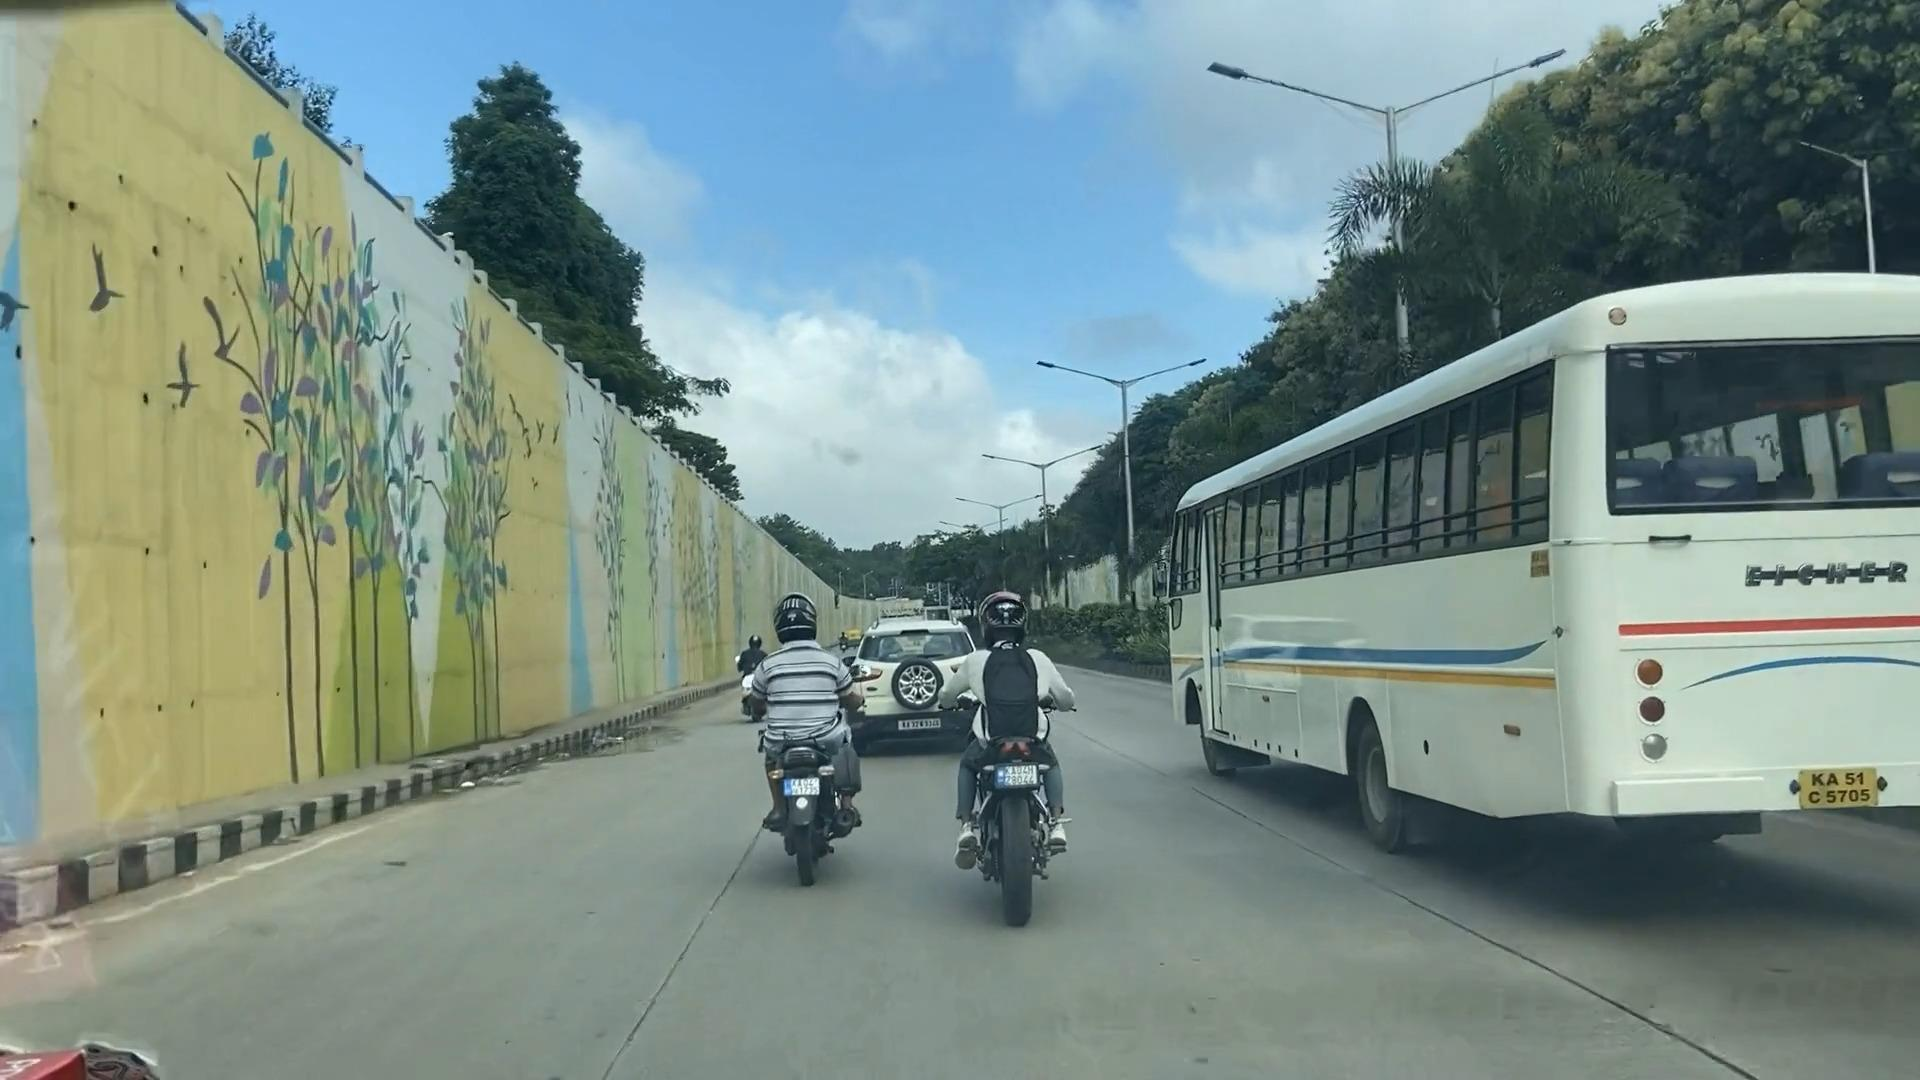HMV: (1178, 284, 1920, 804)
LMV: (948, 612, 1068, 909), (756, 615, 864, 857), (857, 625, 971, 745)
